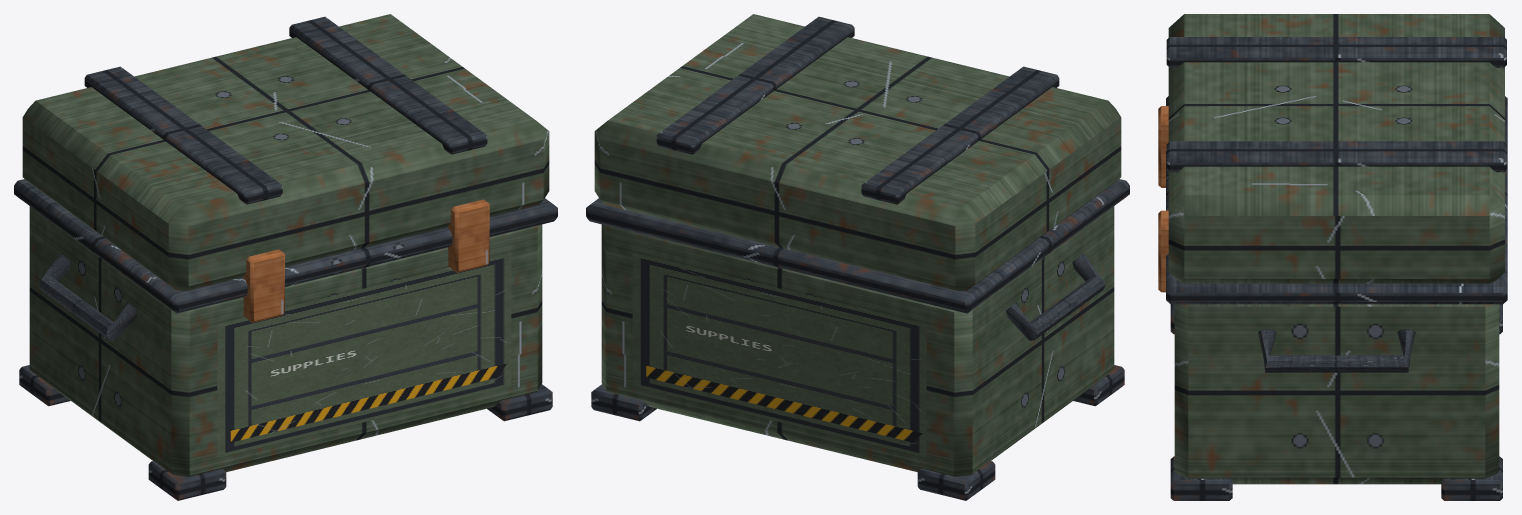
Rendered from mil_ammo_supply_case_03.glb.
3 views of the same model, side by side, from view 1: azimuth 30°, elevation 25°; view 2: azimuth 150°, elevation 25°; view 3: azimuth 270°, elevation 25° (orthographic). The views are drawn at different scales.
Visible parts, largest first — view 1: caja_suministros; view 2: caja_suministros; view 3: caja_suministros.
Boxes of the visible parts, x1,y1,x2,y2 form: caja_suministros: (14,14,557,500); caja_suministros: (586,14,1129,500); caja_suministros: (1158,14,1507,500).
Size of the model in its own units: 0.6676 by 0.44 by 0.452.
Materials: 4 (4 with a texture image).
